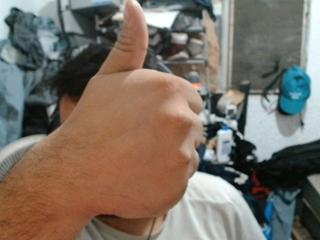Adelante: (68, 1, 209, 229)
